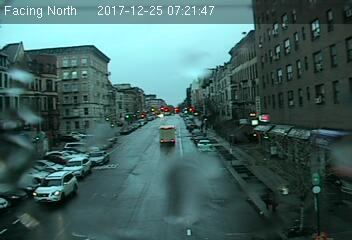car: (31, 171, 80, 203), (62, 156, 93, 177), (86, 151, 112, 167)
truck: (157, 124, 177, 146)
